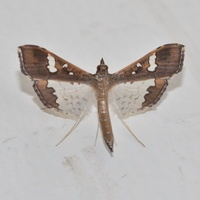insect: (18, 43, 183, 151)
